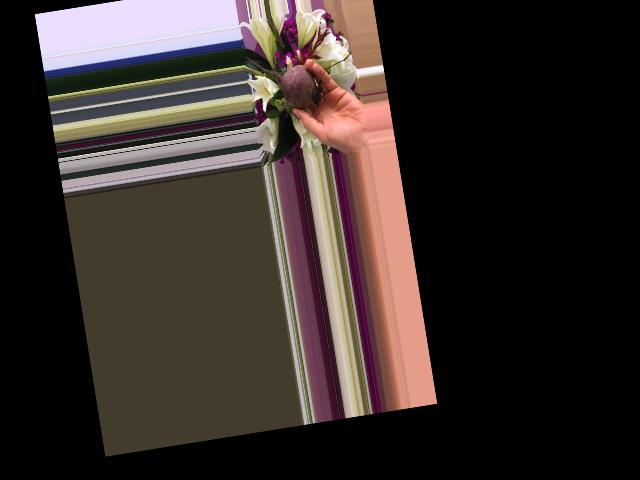beet: (246, 45, 324, 116)
